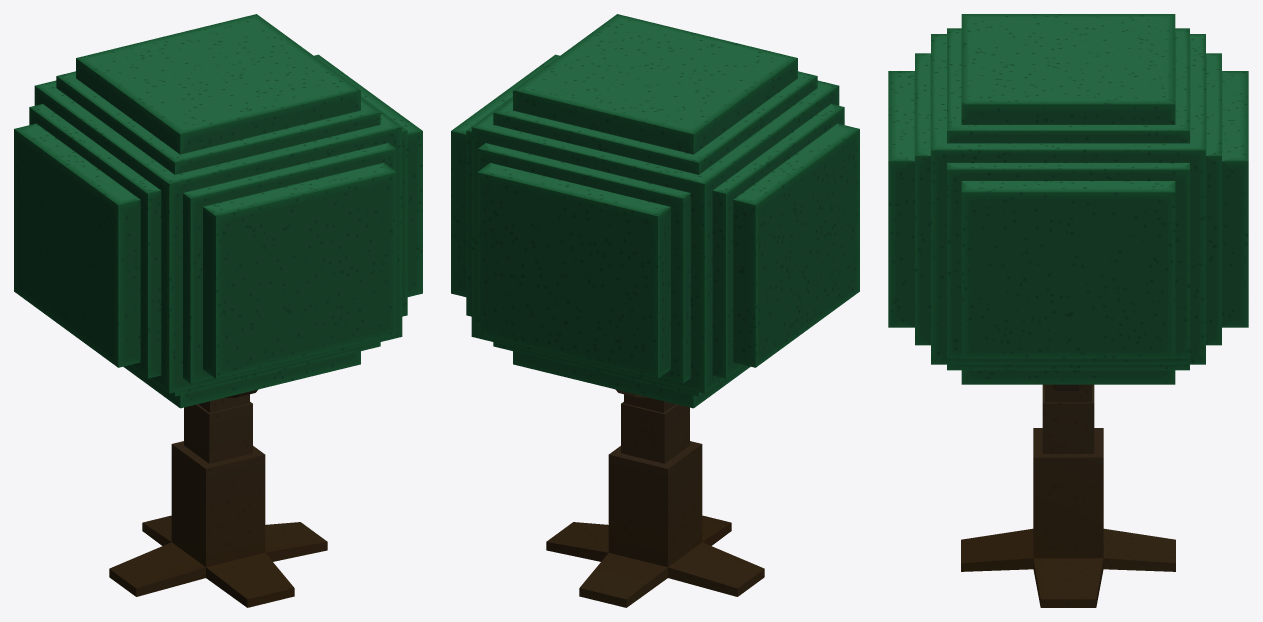
File: Pohon 3.fbx
3 renders of one model, left to right at view 1: azimuth 30°, elevation 25°; view 2: azimuth 150°, elevation 25°; view 3: azimuth 270°, elevation 25°, orthographic. The views are drawn at different scales.
Visible parts, largest first — view 1: Pohon 3; view 2: Pohon 3; view 3: Pohon 3.
Part boxes in pixels (x1,y1,x2,y2): Pohon 3: [14, 14, 422, 607]; Pohon 3: [451, 14, 859, 607]; Pohon 3: [888, 14, 1248, 607].
Bounding box in the file's own units: 421 × 646 × 421.
1 material, 1 textured.
